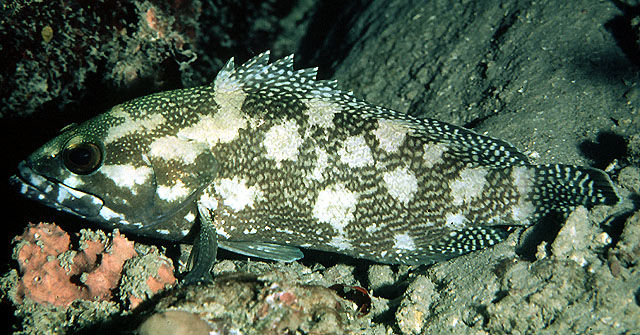fish: (10, 47, 622, 280)
